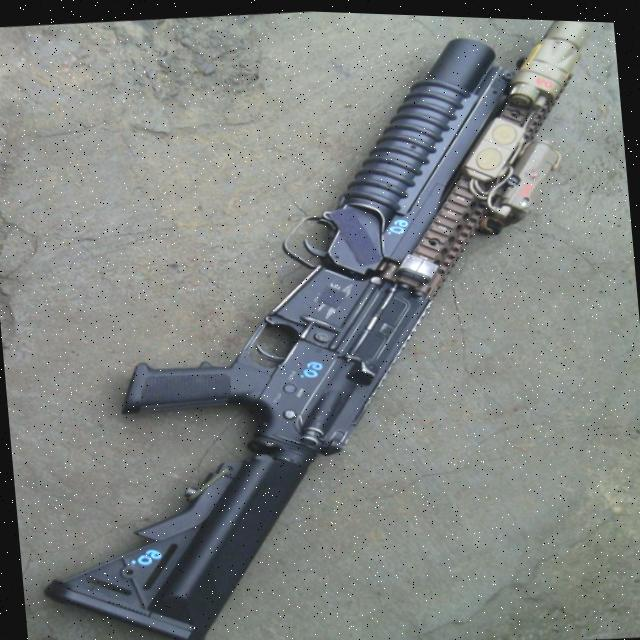firearm: (0, 0, 640, 640)
rocket: (262, 23, 532, 284)
